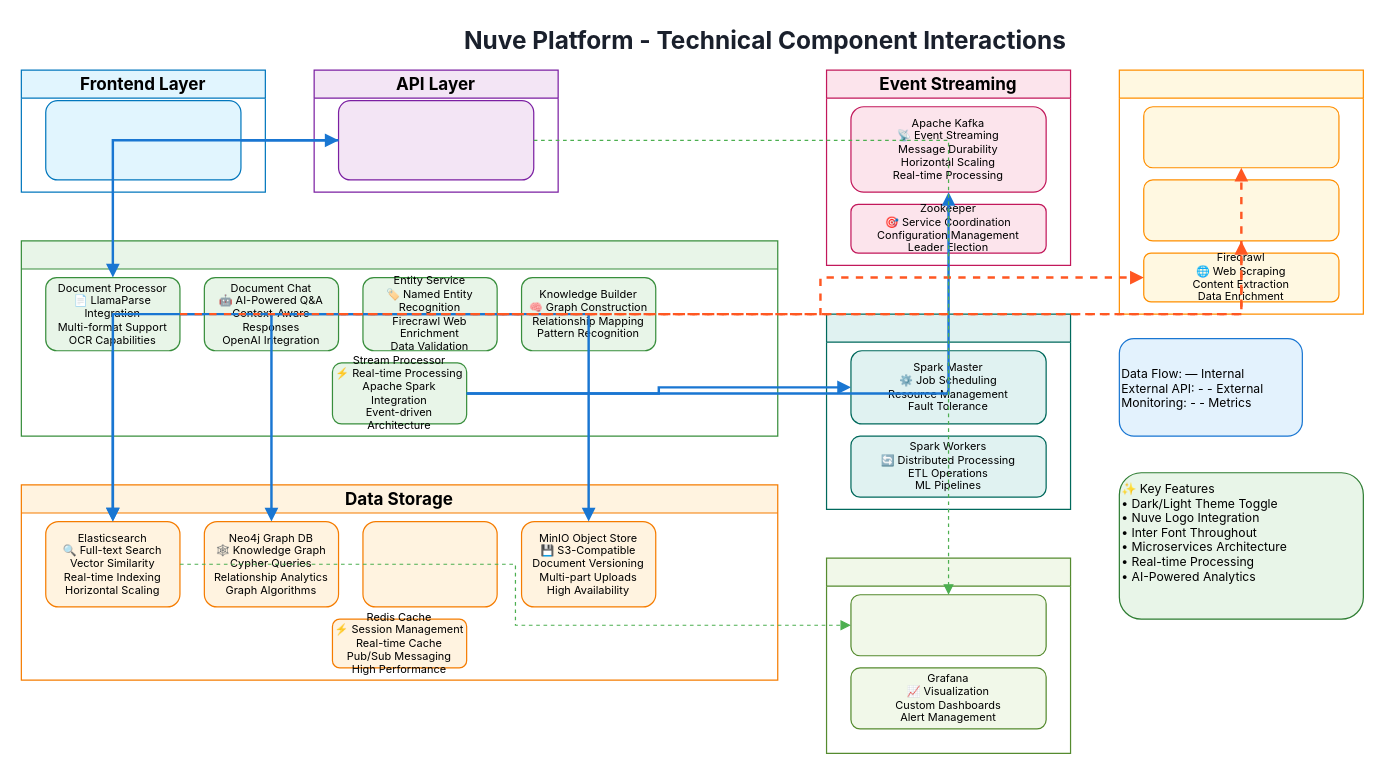
This 1385x775 diagram has some shape labels left out. The shapes that lost their labels are listed below. From the top down, each one's box as (x1, y1, x2, y2) in pixels, then its label:
(45, 99, 241, 180): React UI 📱 Modern Interface Real-time Updates Theme Toggle & Logo
(337, 99, 534, 180): FastAPI Gateway 🚪 Single Entry Point JWT Authentication Rate Limiting
(1143, 106, 1339, 168): LlamaParse 🧠 Document Intelligence Layout Understanding Table Extraction
(1118, 69, 1363, 314): External APIs
(1143, 179, 1339, 241): OpenAI 💭 Language Models Text Generation Embeddings
(20, 240, 778, 436): Microservices
(825, 313, 1071, 509): Processing Engine
(362, 520, 497, 607): PostgreSQL 🗃️ ACID Transactions User Management Processing Metadata Audit Trails
(850, 594, 1046, 656): Prometheus 📊 Metrics Collection Time-series Database Alerting Rules
(825, 557, 1071, 753): Monitoring Stack
